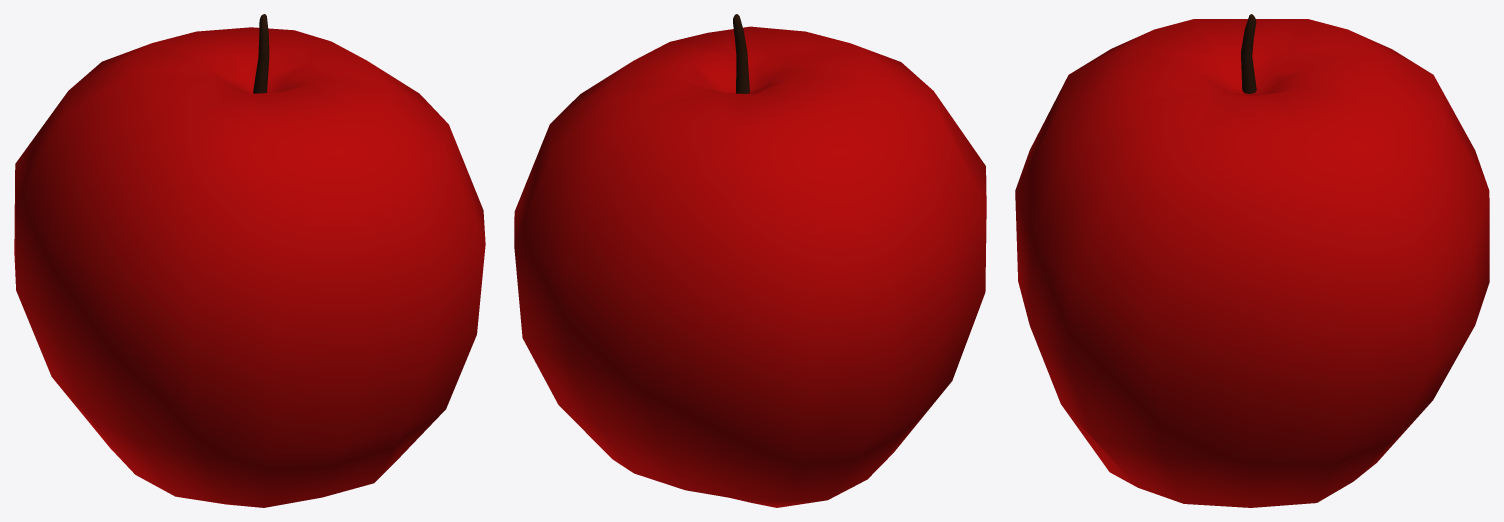
Rendered from Apple.fbx.
3 renders of one model, left to right at view 1: azimuth 30°, elevation 25°; view 2: azimuth 150°, elevation 25°; view 3: azimuth 270°, elevation 25°, orthographic. The views are drawn at different scales.
Visible parts, largest first — view 1: Apple; view 2: Apple; view 3: Apple.
Boxes of the visible parts, x1,y1,x2,y2 form: Apple: [14, 14, 485, 507]; Apple: [514, 14, 986, 507]; Apple: [1015, 14, 1489, 507].
Bounding box in the file's own units: 29.19 × 31.97 × 29.76.
